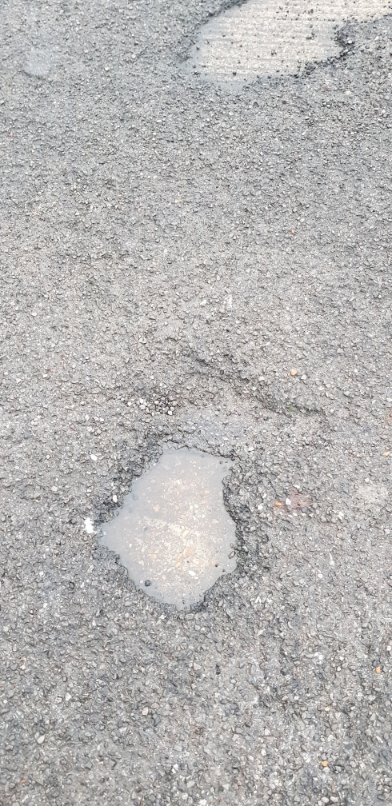pothole: (91, 422, 251, 619), (175, 0, 382, 97)
